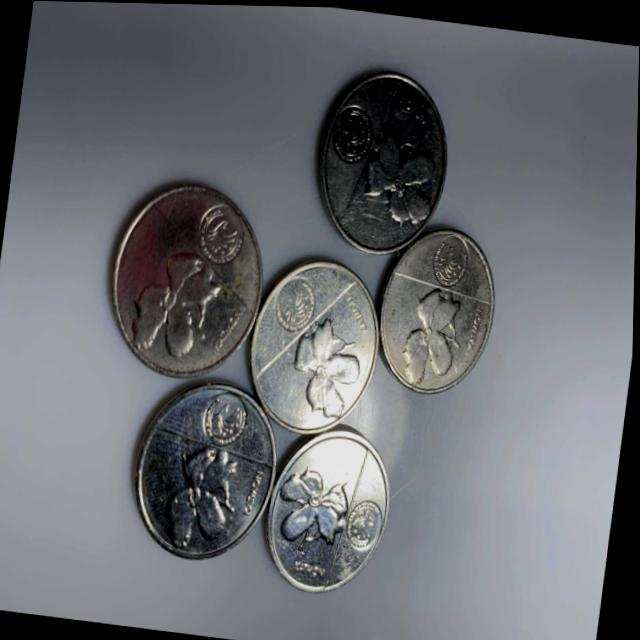25Cent_New_Back: (121, 229, 232, 381), (159, 431, 247, 560), (279, 308, 374, 427), (352, 114, 449, 229), (262, 459, 360, 566), (395, 275, 476, 395)
